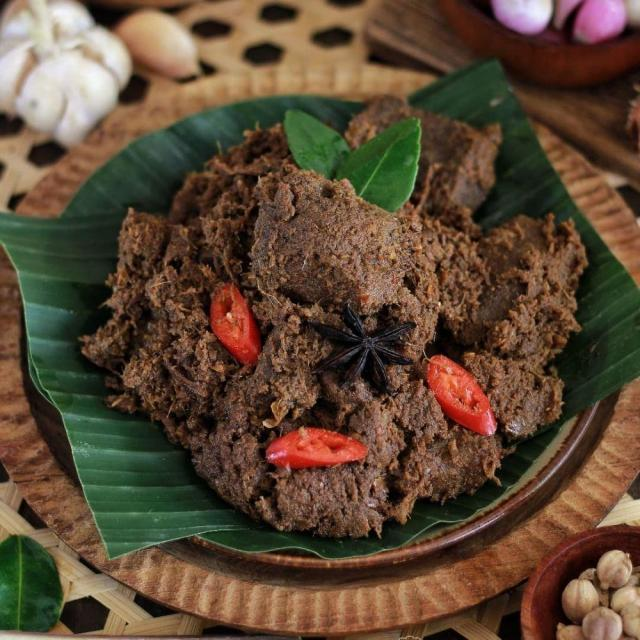Rendang: (90, 130, 597, 573)
